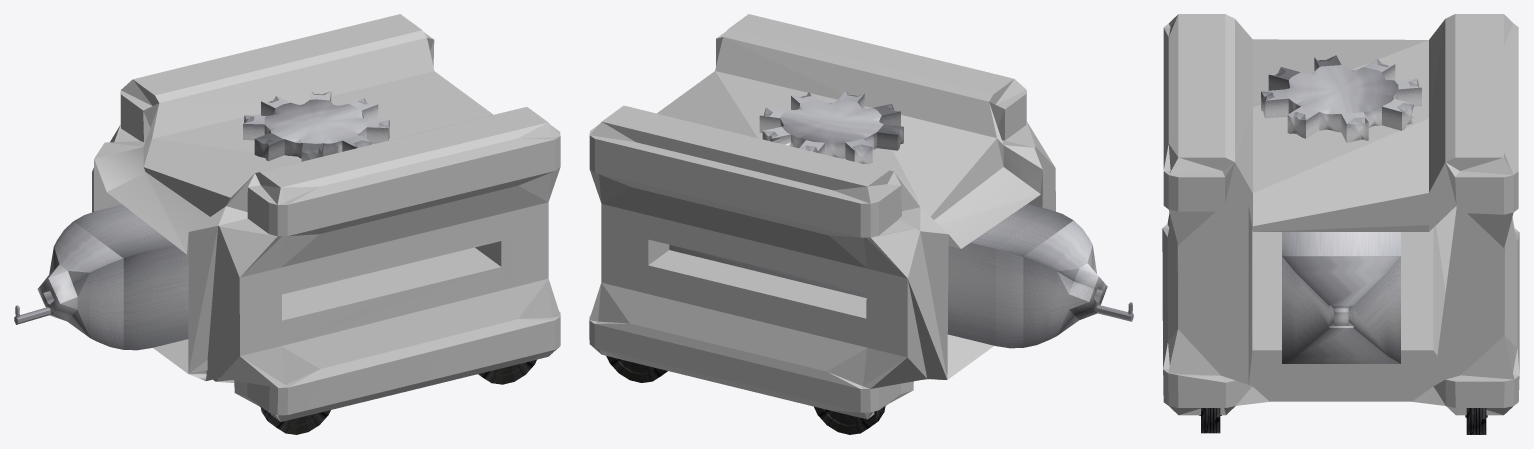
File: Siege_Mode2.fbx
3 views of the same model, side by side, from view 1: azimuth 30°, elevation 25°; view 2: azimuth 150°, elevation 25°; view 3: azimuth 270°, elevation 25° (orthographic). The views are drawn at different scales.
Visible parts, largest first — view 1: Body, top, Ram-Head&Back, Gear Wheel Large, Ram, Wheel1, Wheel; view 2: Body, top, Ram-Head&Back, Gear Wheel Large, Ram, Wheel2, Wheel3; view 3: Body, top, Ram-Head&Back, Gear Wheel Large, Ram, Wheel3, Wheel.
Part boxes in pixels (x1,y1,x2,y2): Body: (92,14,560,421); top: (107,71,493,254); Ram-Head&Back: (14,210,151,350); Gear Wheel Large: (243,91,389,161); Ram: (98,204,188,347); Wheel1: (260,407,330,434); Wheel: (478,359,536,384); Body: (589,14,1055,419); top: (657,71,1040,248); Ram-Head&Back: (995,209,1133,348); Gear Wheel Large: (759,91,903,163); Ram: (669,204,1048,345); Wheel2: (814,405,885,434); Wheel3: (606,356,667,382); Body: (1162,14,1519,415); top: (1253,39,1428,231); Ram-Head&Back: (1282,256,1400,363); Gear Wheel Large: (1261,55,1421,142); Ram: (1282,232,1400,256); Wheel3: (1465,408,1487,434); Wheel: (1199,408,1221,433).
Bounding box in the file's own units: 215 × 107 × 120.
